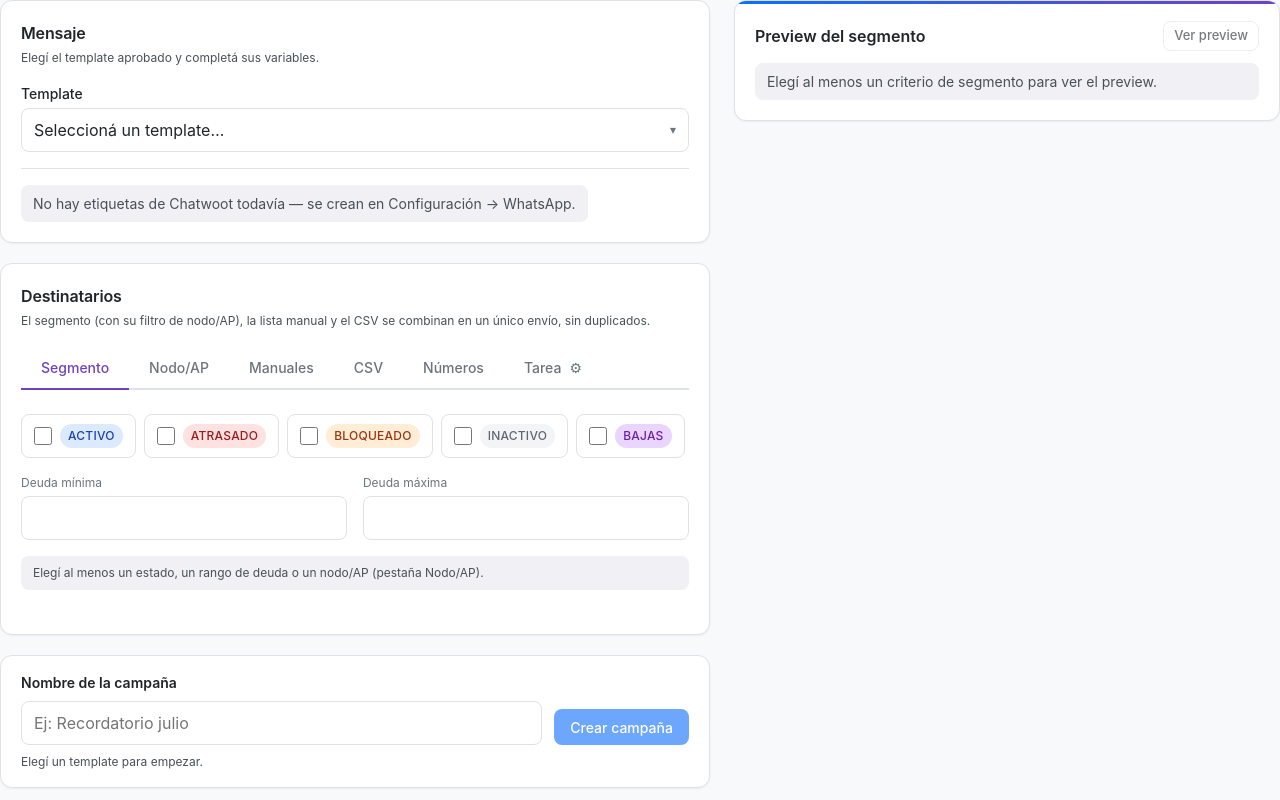
it: TASK-2: config vacía → tab con hint, sin checklist › sin NINGÚN stage mapeado, el panel muestra el hint accionable (no checkboxes)
Click the tab "Tarea ⚙": {"x": 553, "y": 368} [504,346,602,390]
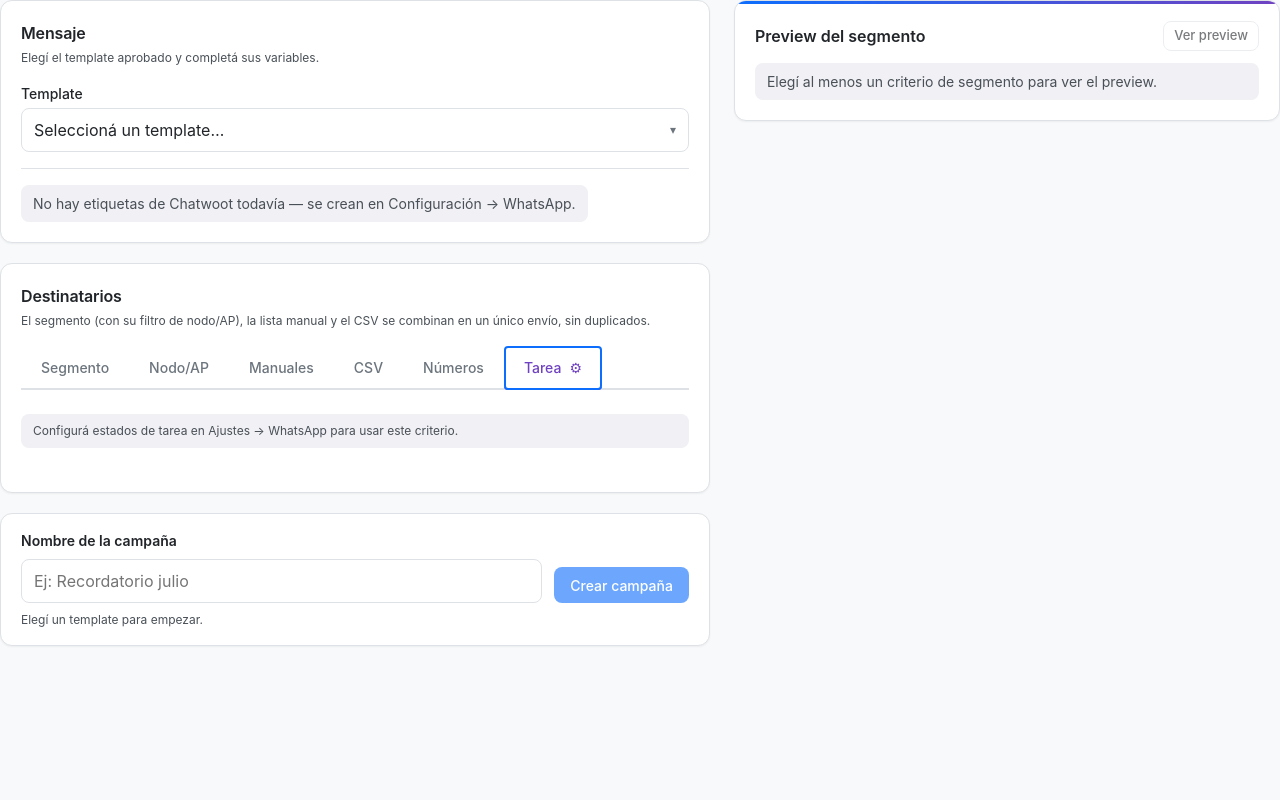
Expected: the text "Configurá estados de tarea en Ajustes → WhatsApp para usar este criterio." is shown, [21,414,689,448]
